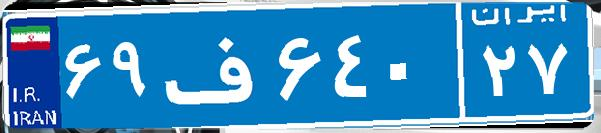0: (385, 28, 445, 110)
2: (475, 38, 525, 113)
4: (330, 28, 385, 110)
6: (273, 28, 330, 110), (57, 26, 110, 107)
7: (525, 38, 570, 115)
9: (110, 28, 158, 105)
ف: (158, 15, 273, 115)
